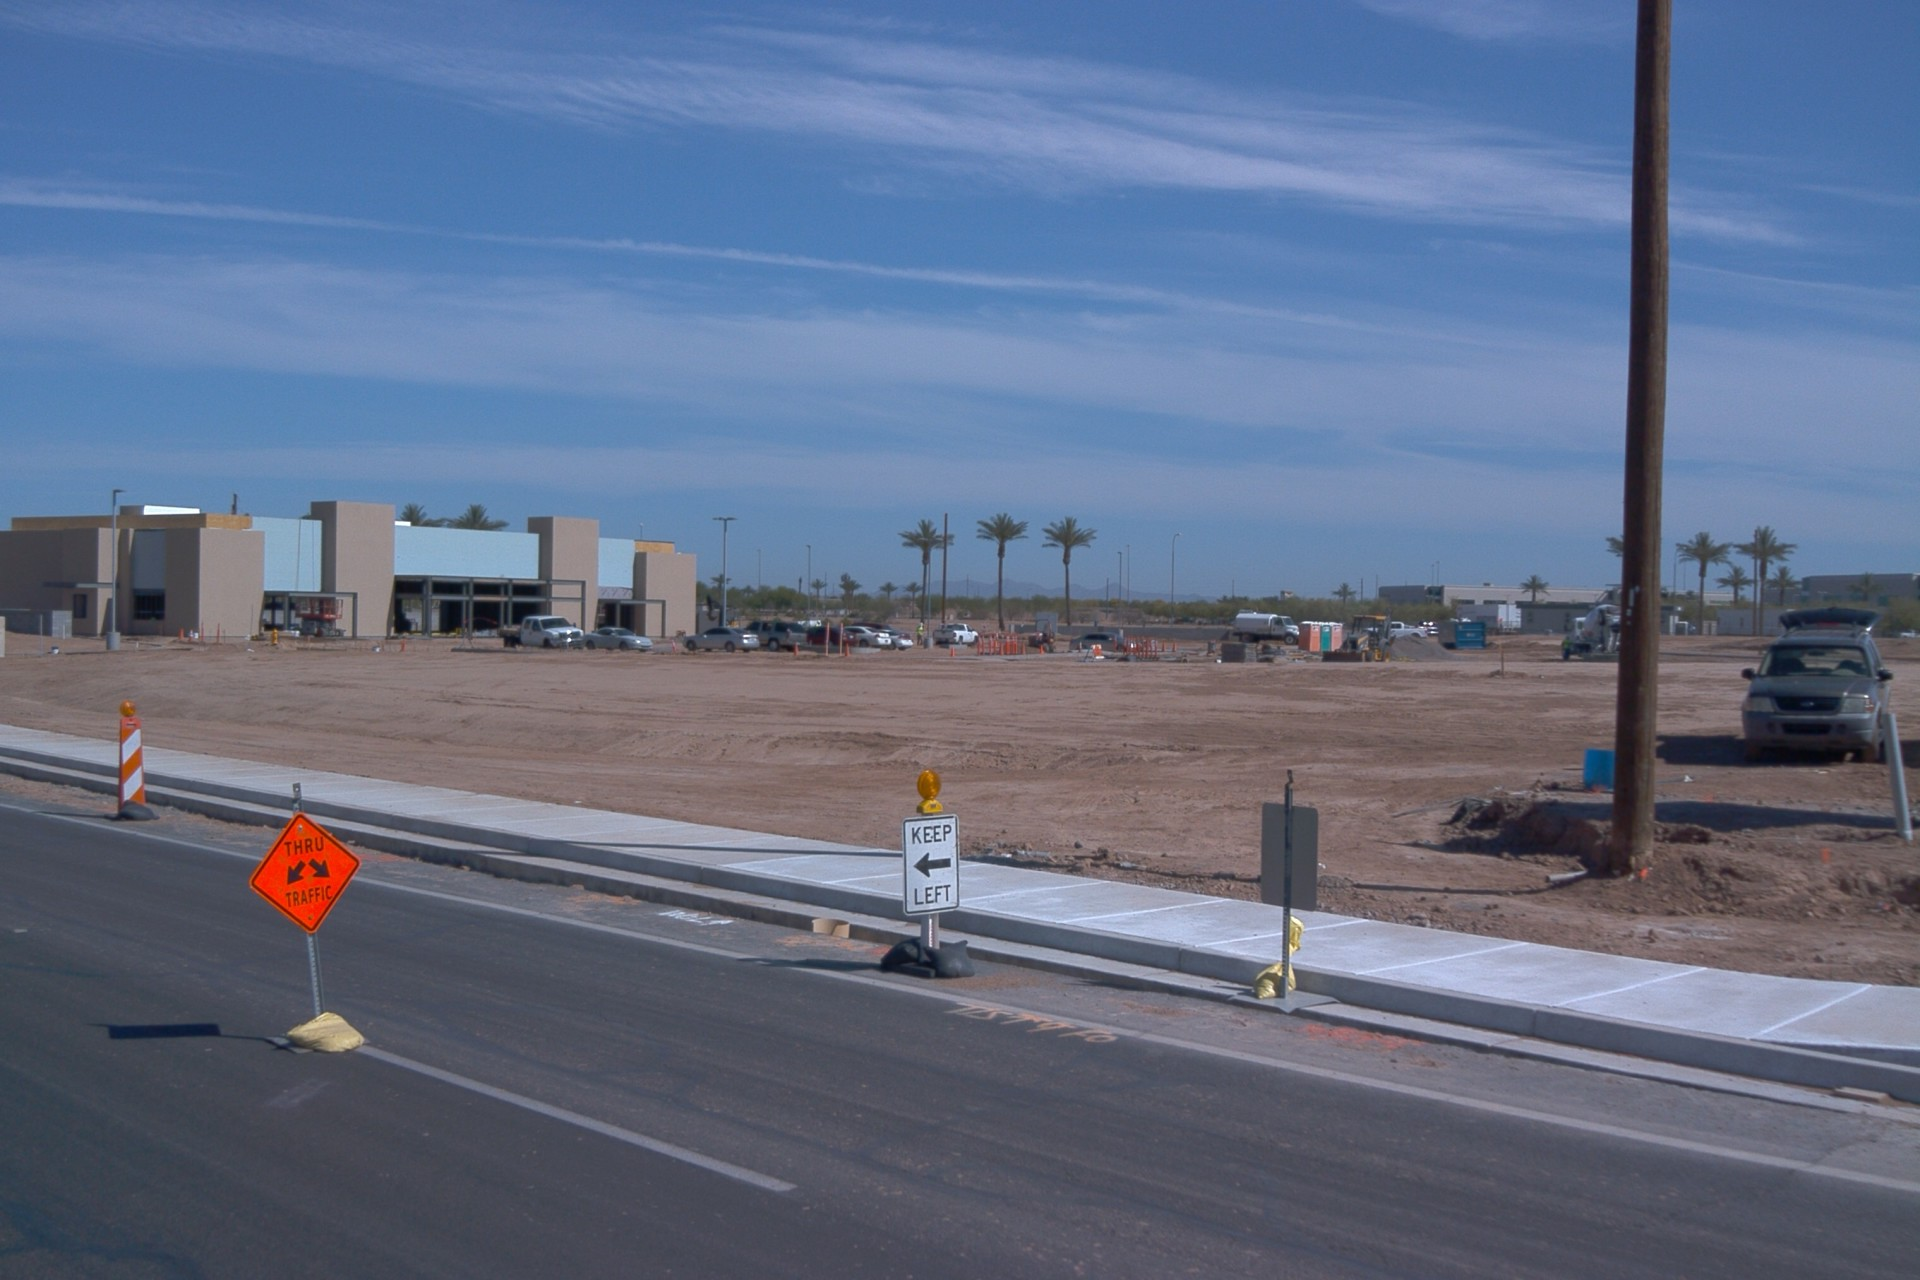TYPE_PEDESTRIAN: (1560, 634, 1574, 664), (915, 620, 928, 649)
TYPE_VEHICLE: (1738, 624, 1894, 768), (1319, 613, 1395, 668), (497, 616, 587, 656), (1560, 607, 1622, 665), (741, 618, 814, 658), (1231, 610, 1297, 649), (684, 625, 761, 656), (584, 629, 653, 652), (801, 628, 859, 653), (1364, 625, 1428, 647), (1072, 633, 1142, 652), (931, 624, 980, 648), (851, 626, 909, 646), (841, 629, 890, 652), (879, 629, 915, 652), (796, 619, 821, 631)
